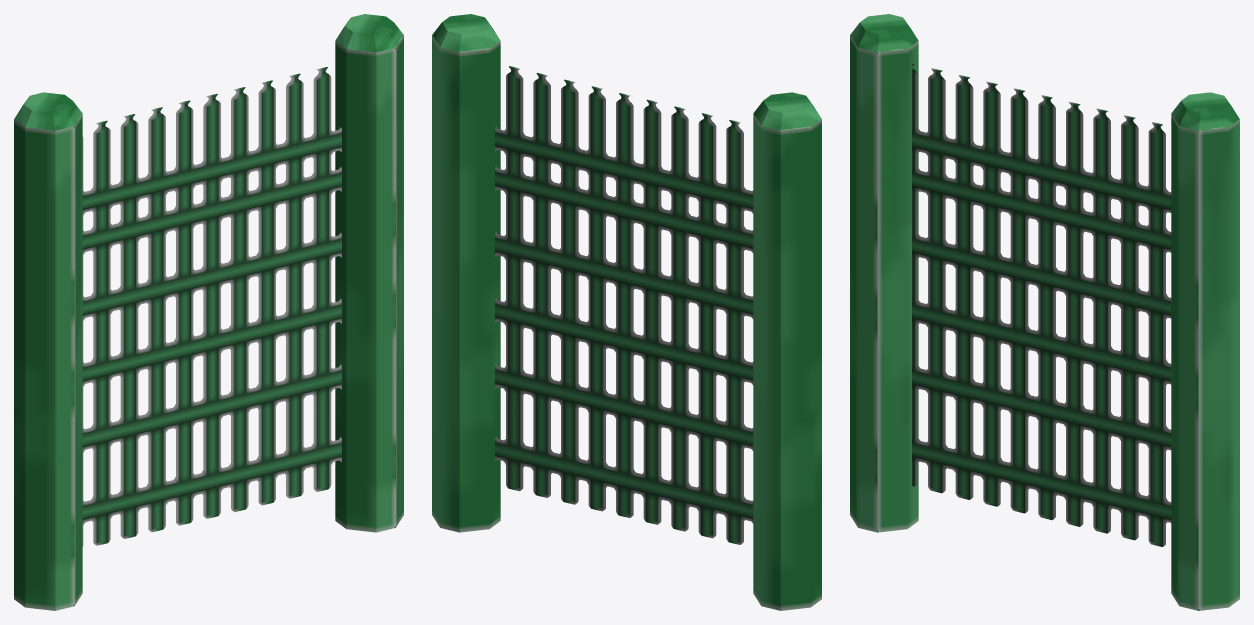
File: Green fence.fbx
The picture shows the model from 3 angles, left to right: view 1: azimuth 30°, elevation 25°; view 2: azimuth 150°, elevation 25°; view 3: azimuth 330°, elevation 25°; orthographic projection.
Parts seen in each view (by area): view 1: Plane, Cube.004, Cube.003; view 2: Plane, Cube.004, Cube.003; view 3: Plane, Cube.003, Cube.004.
Part boxes in pixels (x1,y1,x2,y2): Plane: [82, 67, 341, 546]; Cube.004: [14, 92, 82, 610]; Cube.003: [335, 14, 403, 532]; Plane: [495, 66, 753, 544]; Cube.004: [753, 92, 821, 610]; Cube.003: [432, 14, 500, 532]; Plane: [912, 63, 1171, 546]; Cube.003: [1171, 92, 1239, 610]; Cube.004: [850, 14, 918, 532].
Size of the model in its own units: 165 by 206 by 25.
1 material, 1 textured.
